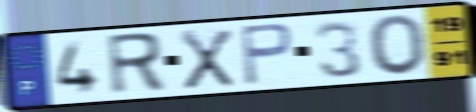3: (313, 18, 364, 80)
4: (54, 39, 100, 95)
O: (366, 12, 428, 78)
P: (237, 21, 296, 87)
R: (103, 30, 169, 98)
X: (178, 27, 236, 92)
